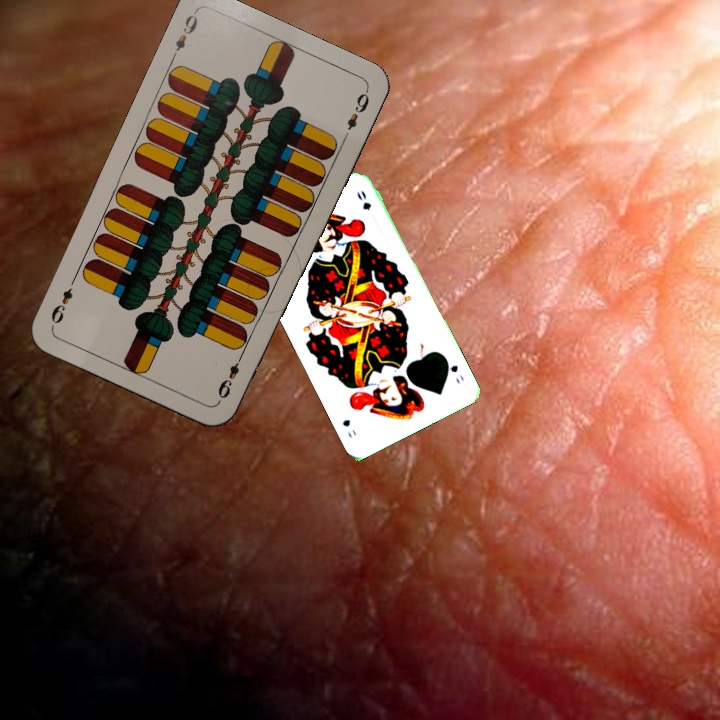E9: (213, 349, 247, 404), (167, 8, 201, 63)
GO: (441, 354, 467, 386)
